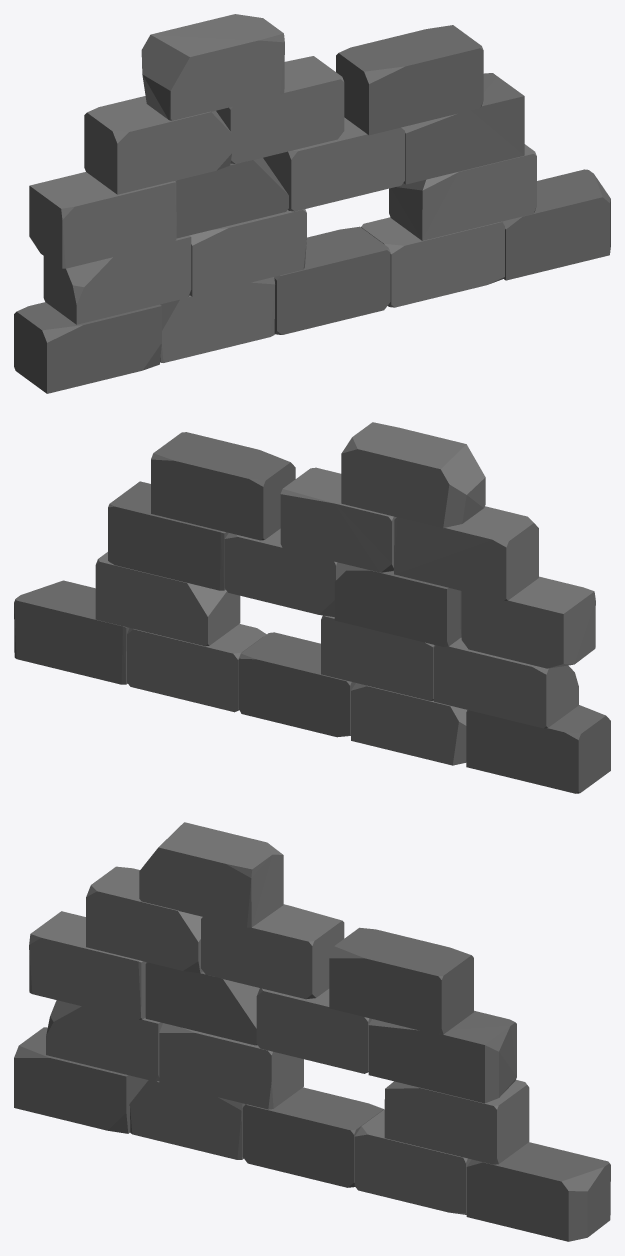
File: Ruins_06.fbx
The picture shows the model from 3 angles, top to bottom: view 1: azimuth 30°, elevation 25°; view 2: azimuth 150°, elevation 25°; view 3: azimuth 330°, elevation 25°; orthographic projection. The views are drawn at different scales.
Visible parts, largest first — view 1: Ruins_06_LOD0; view 2: Ruins_06_LOD0; view 3: Ruins_06_LOD0.
Part boxes in pixels (x1,y1,x2,y2): Ruins_06_LOD0: [14, 14, 610, 393]; Ruins_06_LOD0: [14, 422, 610, 793]; Ruins_06_LOD0: [14, 822, 610, 1241].
Size of what is drawn, in the model's own units: 370 by 185 by 40.95.
